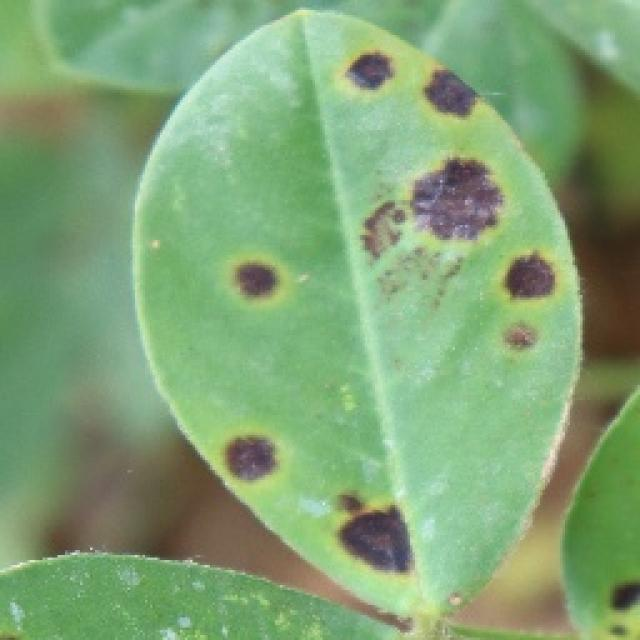Yellowish: (179, 32, 564, 592), (567, 537, 640, 640)
